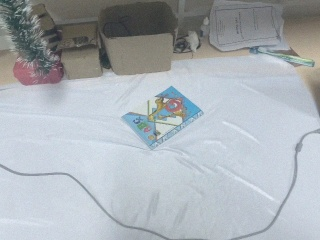book: (119, 83, 206, 151)
box: (98, 1, 178, 77)
